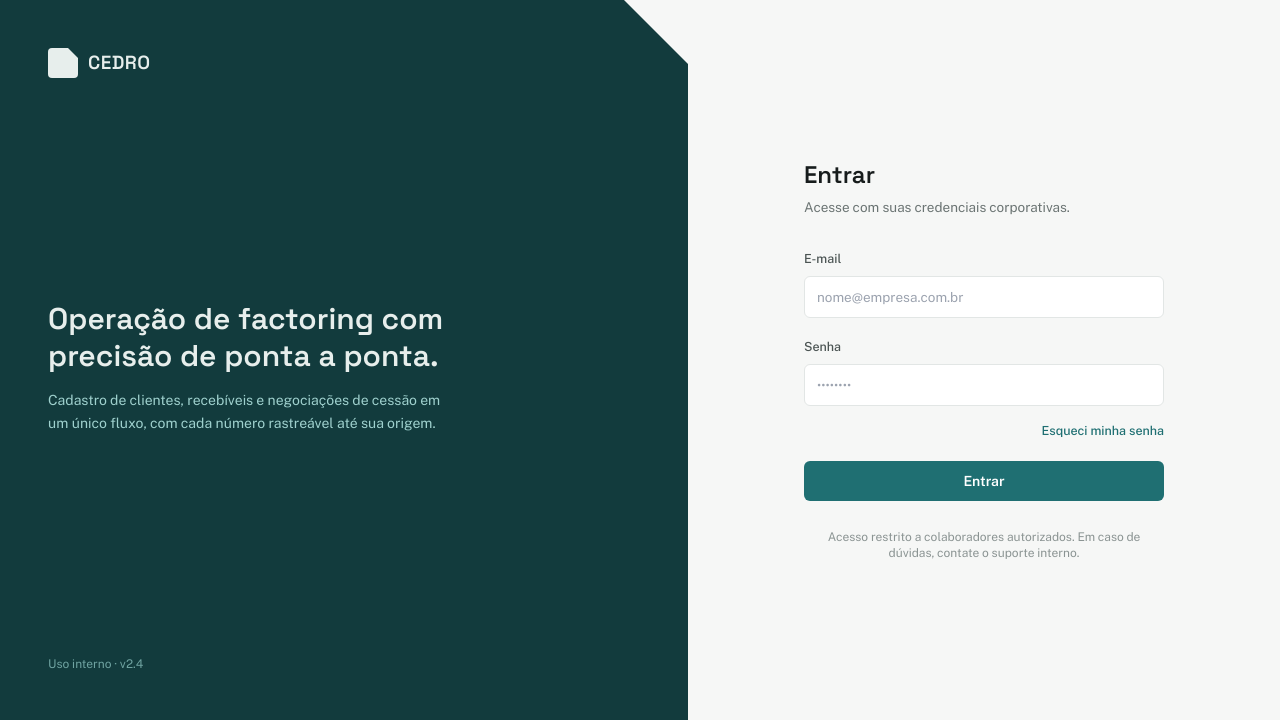
Test: LoginPage › shows validation errors when submitted empty
Click the button "Entrar" at {"x": 984, "y": 481}, box [804, 461, 1164, 501]
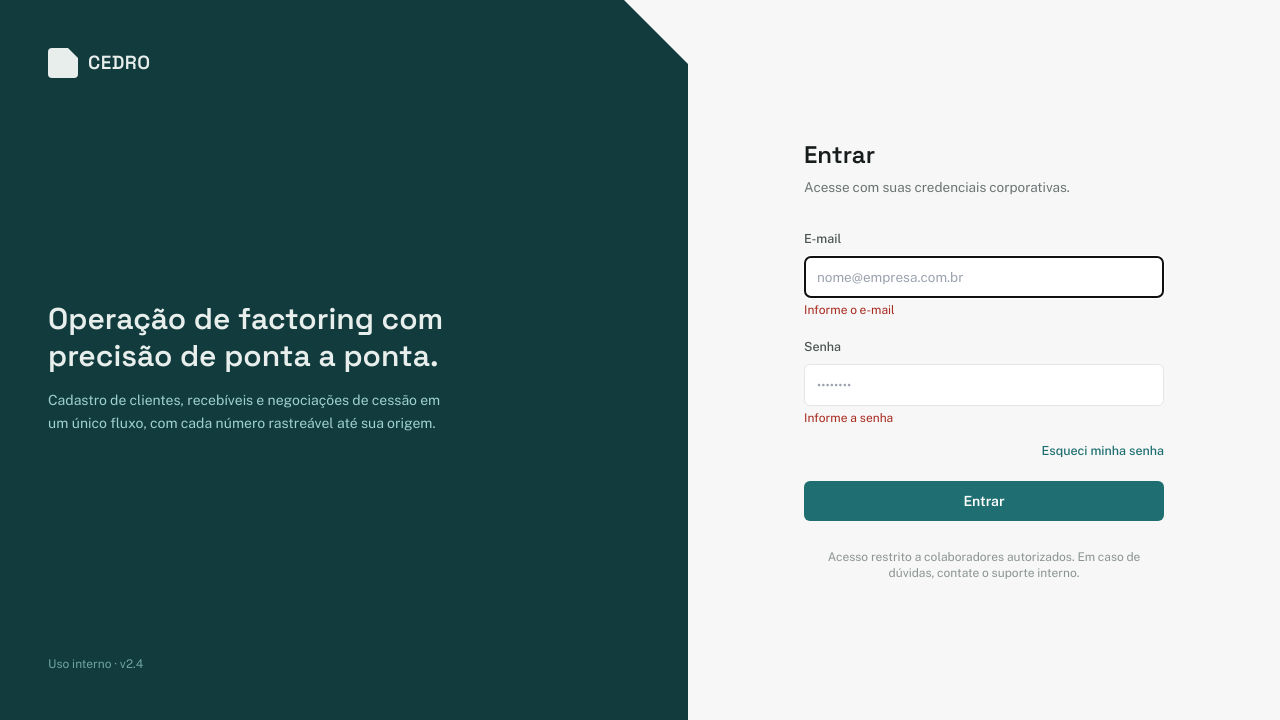
Expected: the text "Informe o e-mail" is shown, [804, 303, 895, 317]
Expected: the text "Informe a senha" is shown, [804, 411, 893, 425]
